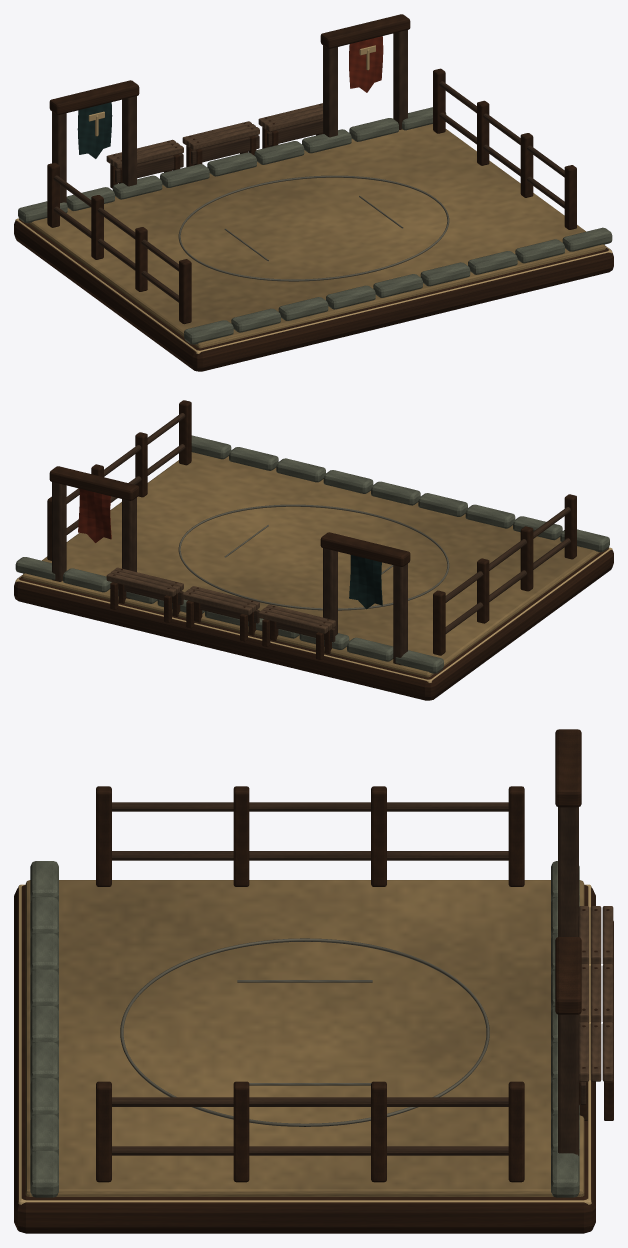
The model's file is arena.glb.
The picture shows the model from 3 angles, top to bottom: view 1: azimuth 30°, elevation 25°; view 2: azimuth 150°, elevation 25°; view 3: azimuth 270°, elevation 25°; orthographic projection. The views are drawn at different scales.
Visible parts, largest first — view 1: Environment_Fine arena sand, Environment_Oak end grain.002, Environment_Carved limestone.001, Environment_Oak honey.002, Environment_Oak cut edge.002, Environment_Warm linen.002, Environment_Aged brass.002, Environment_Rival ochre, Environment_House teal.002; view 2: Environment_Fine arena sand, Environment_Oak end grain.002, Environment_Carved limestone.001, Environment_Oak honey.002, Environment_Oak cut edge.002, Environment_Warm linen.002, Environment_House teal.002, Environment_Rival ochre, Environment_Aged brass.002; view 3: Environment_Fine arena sand, Environment_Oak end grain.002, Environment_Oak honey.002, Environment_Carved limestone.001, Environment_Oak cut edge.002, Environment_Warm linen.002, Environment_Aged brass.002.
Boxes of the visible parts, x1,y1,x2,y2 form: Environment_Fine arena sand: (28,124,605,348); Environment_Oak end grain.002: (14,14,613,371); Environment_Carved limestone.001: (18,107,612,344); Environment_Oak honey.002: (52,30,564,302); Environment_Oak cut edge.002: (106,103,322,168); Environment_Warm linen.002: (178,175,449,281); Environment_Aged brass.002: (15,45,612,353); Environment_Rival ochre: (349,36,383,92); Environment_House teal.002: (77,102,112,158); Environment_Fine arena sand: (22,452,599,677); Environment_Oak end grain.002: (14,400,613,700); Environment_Carved limestone.001: (15,435,609,673); Environment_Oak honey.002: (52,413,570,665); Environment_Oak cut edge.002: (106,567,335,633); Environment_Warm linen.002: (178,504,449,610); Environment_House teal.002: (349,554,382,609); Environment_Rival ochre: (78,488,111,542); Environment_Aged brass.002: (15,547,612,682); Environment_Fine arena sand: (25,880,584,1196); Environment_Oak end grain.002: (14,729,613,1233); Environment_Oak honey.002: (112,802,586,1155); Environment_Carved limestone.001: (30,861,579,1197); Environment_Oak cut edge.002: (578,906,613,1081); Environment_Warm linen.002: (120,938,489,1126); Environment_Aged brass.002: (18,884,591,1204).
Size of the model in its own units: 7.23 by 2.23 by 5.67.
9 materials, 8 textured.
